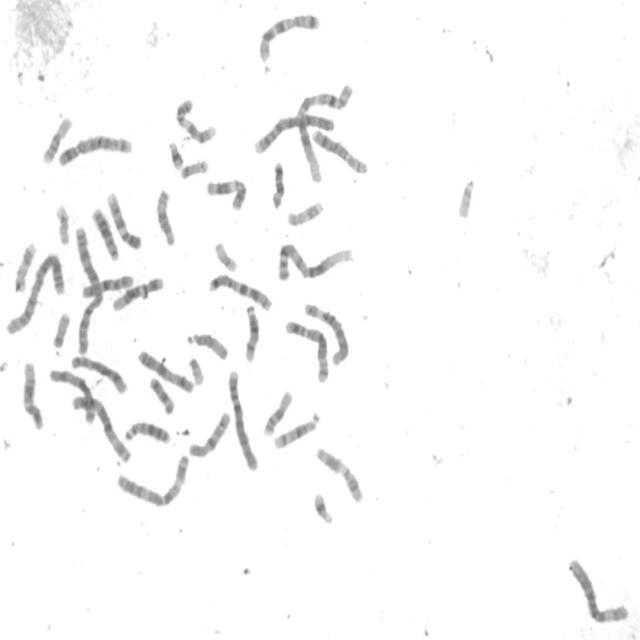A1: (295, 80, 356, 184), (274, 238, 356, 283)
A2: (3, 248, 67, 337), (71, 222, 105, 356)
A3: (68, 390, 134, 465), (114, 449, 192, 509)
B4: (225, 365, 261, 473), (252, 110, 337, 155)
B5: (282, 316, 332, 384), (56, 130, 134, 167)
C10: (186, 406, 234, 460), (79, 270, 135, 300)
C11: (313, 442, 366, 506), (203, 174, 250, 212)
C12: (110, 272, 166, 312), (19, 357, 46, 431)
C6: (566, 554, 631, 625), (302, 298, 352, 368)
C7: (255, 8, 322, 62), (206, 268, 274, 312)
C8: (309, 125, 370, 176), (68, 352, 129, 396)
C9: (104, 187, 143, 250), (173, 94, 219, 145)
D13: (90, 203, 121, 262), (122, 417, 173, 446)
D14: (271, 408, 322, 450), (242, 300, 262, 363)
D15: (153, 185, 178, 248), (184, 328, 230, 362)
E16: (40, 112, 74, 166), (261, 386, 296, 438)
E17: (12, 238, 39, 294), (285, 196, 325, 228)
E18: (147, 372, 176, 416), (269, 157, 287, 209)
F19: (212, 238, 240, 273), (52, 199, 72, 246)
F20: (50, 307, 73, 350), (178, 154, 211, 180)
G21: (310, 488, 336, 526), (166, 136, 186, 172)
G22: (455, 173, 478, 220), (186, 352, 206, 387)
X: (46, 365, 98, 426), (135, 345, 196, 395)
